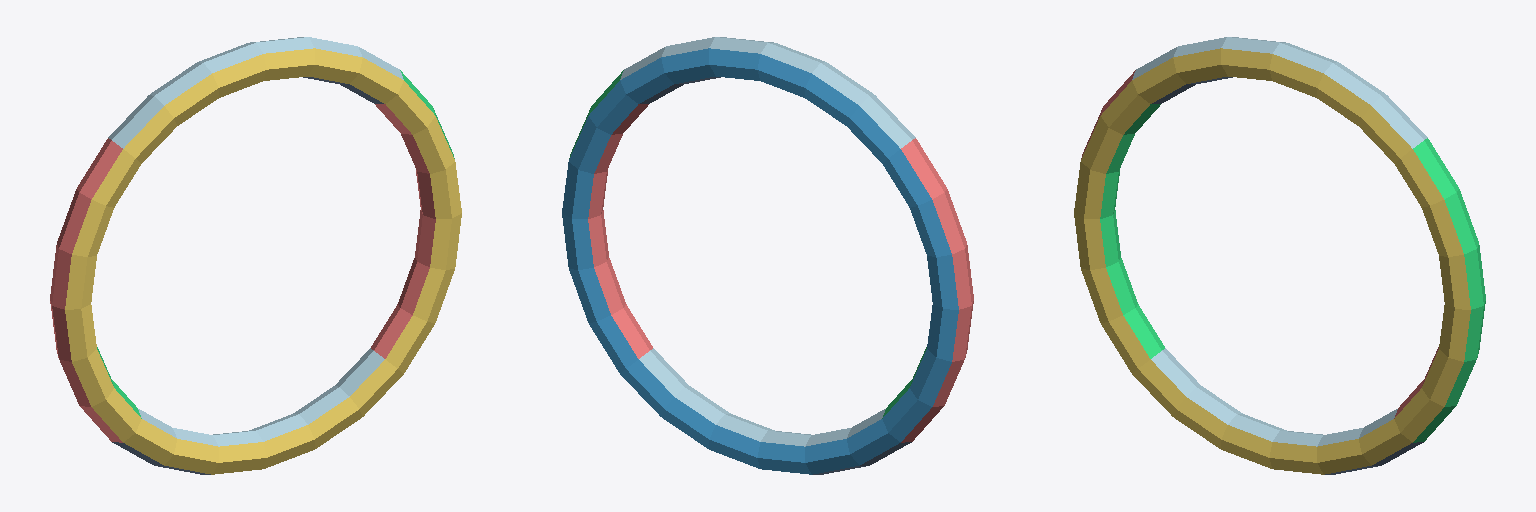
The picture shows the model from 3 angles: view 1: azimuth 30°, elevation 25°; view 2: azimuth 150°, elevation 25°; view 3: azimuth 330°, elevation 25°; orthographic projection.
Parts seen in each view (by area): view 1: torus; view 2: torus; view 3: torus.
Part boxes in pixels (left/top/right/bottom): torus: left=50, top=37, right=461, bottom=474; torus: left=562, top=37, right=973, bottom=474; torus: left=1074, top=37, right=1485, bottom=474.
Bounding box in the file's own units: 0.3438 × 0.3438 × 0.0312.
Materials: 1 (1 with a texture image).